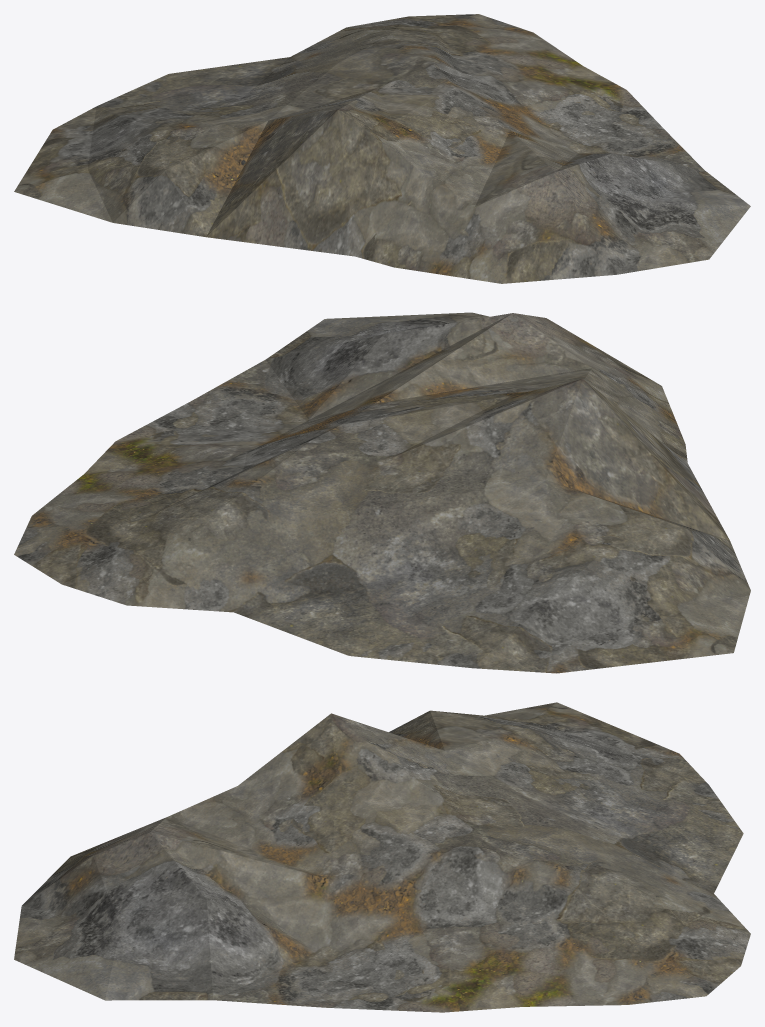
File: wreckage_3.gltf
3 views of the same model, one above another, from view 1: azimuth 30°, elevation 25°; view 2: azimuth 150°, elevation 25°; view 3: azimuth 270°, elevation 25° (orthographic). The views are drawn at different scales.
Visible parts, largest first — view 1: wreckage_3; view 2: wreckage_3; view 3: wreckage_3.
Boxes of the visible parts, left/top/right/bottom form: wreckage_3: left=14, top=14, right=750, bottom=283; wreckage_3: left=14, top=312, right=750, bottom=673; wreckage_3: left=14, top=702, right=750, bottom=1012.
Bounding box in the file's own units: 17.41 × 3.07 × 17.39.
Materials: 1 (1 with a texture image).
